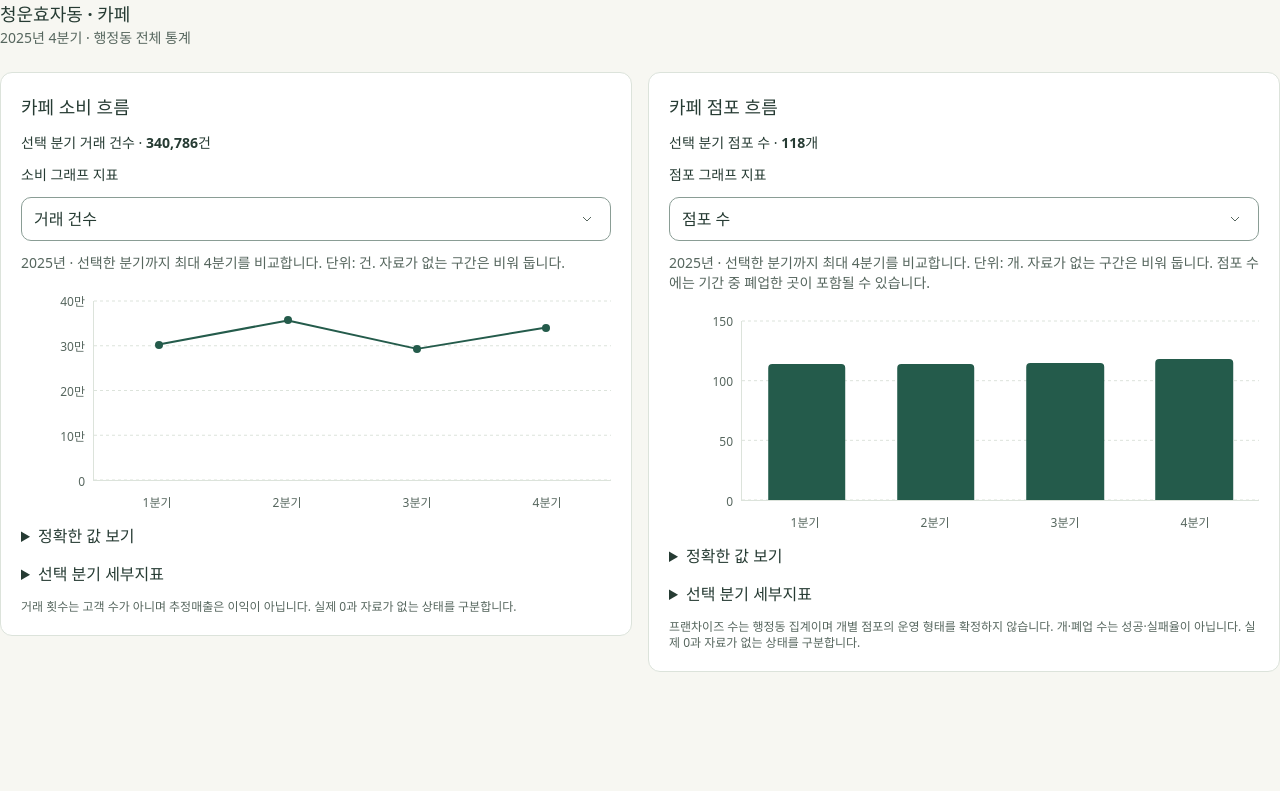
Test: integrates the current value with the chart and reveals exact values only on request
The width and height of the screenshot is (1280, 791).
expect the text "선택 분기 거래 건수 · 340,786건" is shown: met, box [21,133,211,152]
Step 1. Click the heading "정확한 값 보기" below "10만" → (86, 536), box [38,525,134,547]
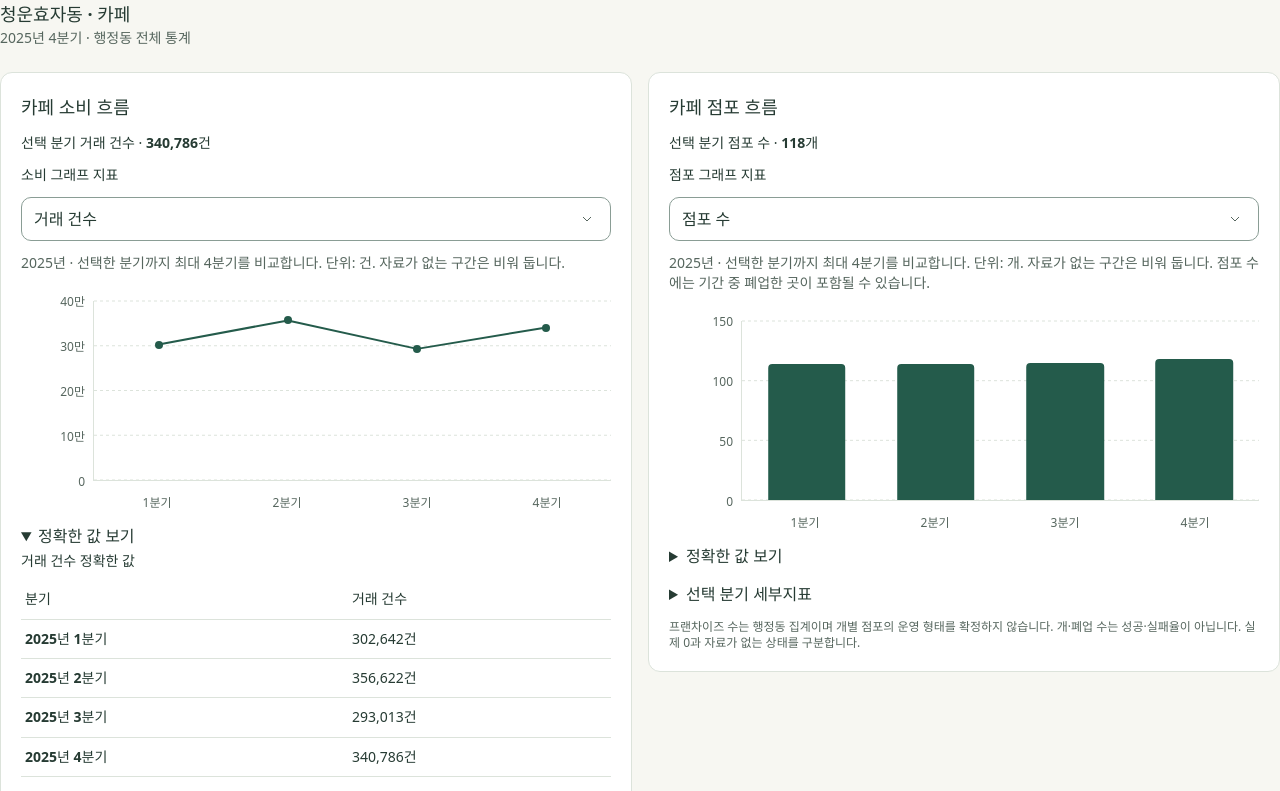
expect the table "거래 건수 정확한 값" is shown: met, box [21,550,611,777]
